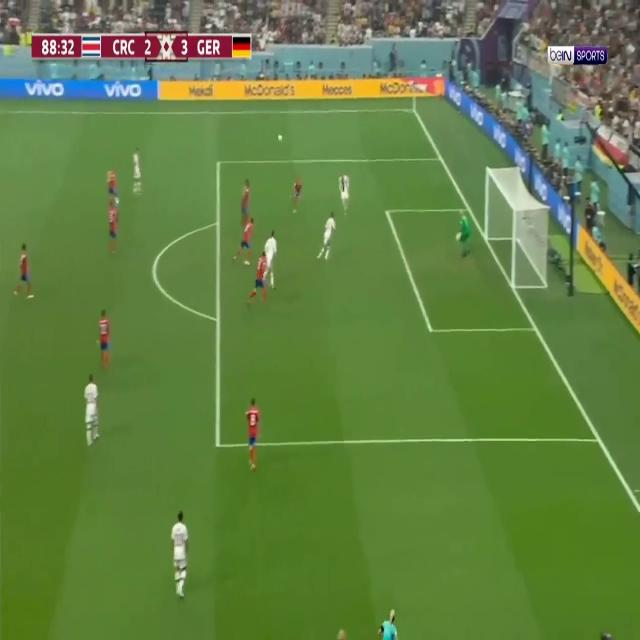Ball: (278, 133, 282, 143)
GoalKeeper: (455, 205, 472, 264)
Referee: (373, 603, 402, 640)
TEAM 1: (245, 396, 266, 472), (246, 252, 273, 306), (13, 242, 35, 305), (96, 308, 114, 370), (238, 212, 256, 262), (107, 165, 121, 215), (106, 204, 118, 255), (240, 177, 253, 222), (289, 174, 304, 212)
TEAM 2: (169, 508, 193, 603), (82, 371, 101, 447), (318, 207, 336, 264), (336, 166, 351, 209), (263, 228, 279, 268), (132, 145, 142, 197)
